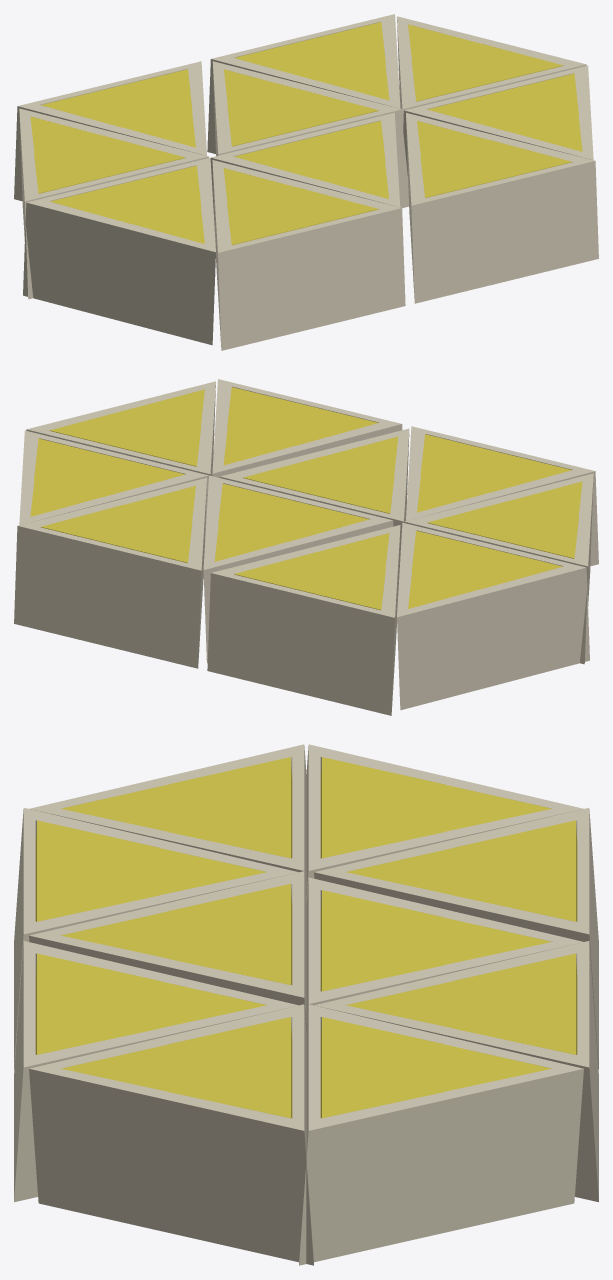
File: triangle.glb
The picture shows the model from 3 angles, top to bottom: view 1: azimuth 30°, elevation 25°; view 2: azimuth 150°, elevation 25°; view 3: azimuth 270°, elevation 25°; orthographic projection. The views are drawn at different scales.
Visible parts, largest first — view 1: Mesh_Mesh_head_geo.001_lambert2SG.001; view 2: Mesh_Mesh_head_geo.001_lambert2SG.001; view 3: Mesh_Mesh_head_geo.001_lambert2SG.001.
Part boxes in pixels (box(x1,y1,x2,y2)): Mesh_Mesh_head_geo.001_lambert2SG.001: box(14, 14, 598, 350); Mesh_Mesh_head_geo.001_lambert2SG.001: box(14, 379, 598, 715); Mesh_Mesh_head_geo.001_lambert2SG.001: box(14, 744, 598, 1265).
Size of the model in its own units: 61 by 10 by 39.
